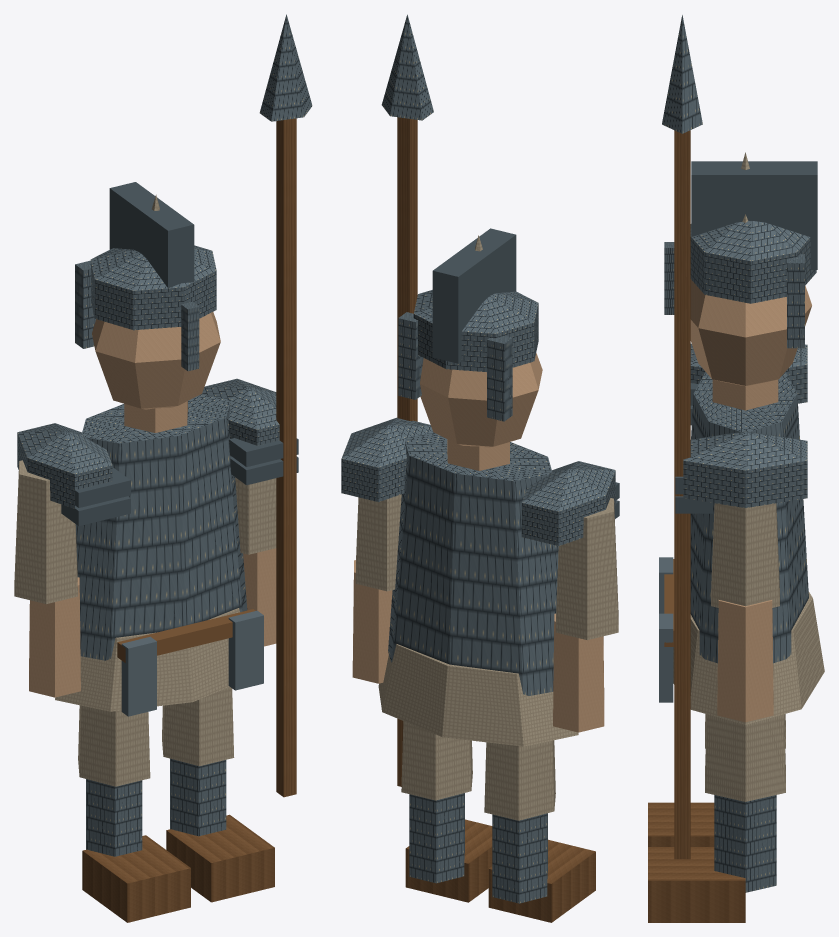
File: unit-SPEAR-lod1.glb
The picture shows the model from 3 angles, left to right: view 1: azimuth 30°, elevation 25°; view 2: azimuth 150°, elevation 25°; view 3: azimuth 270°, elevation 25°; orthographic projection. The views are drawn at different scales.
Size of the model in its own units: 0.187 by 0.565 by 0.098.
1 material, 1 textured.
